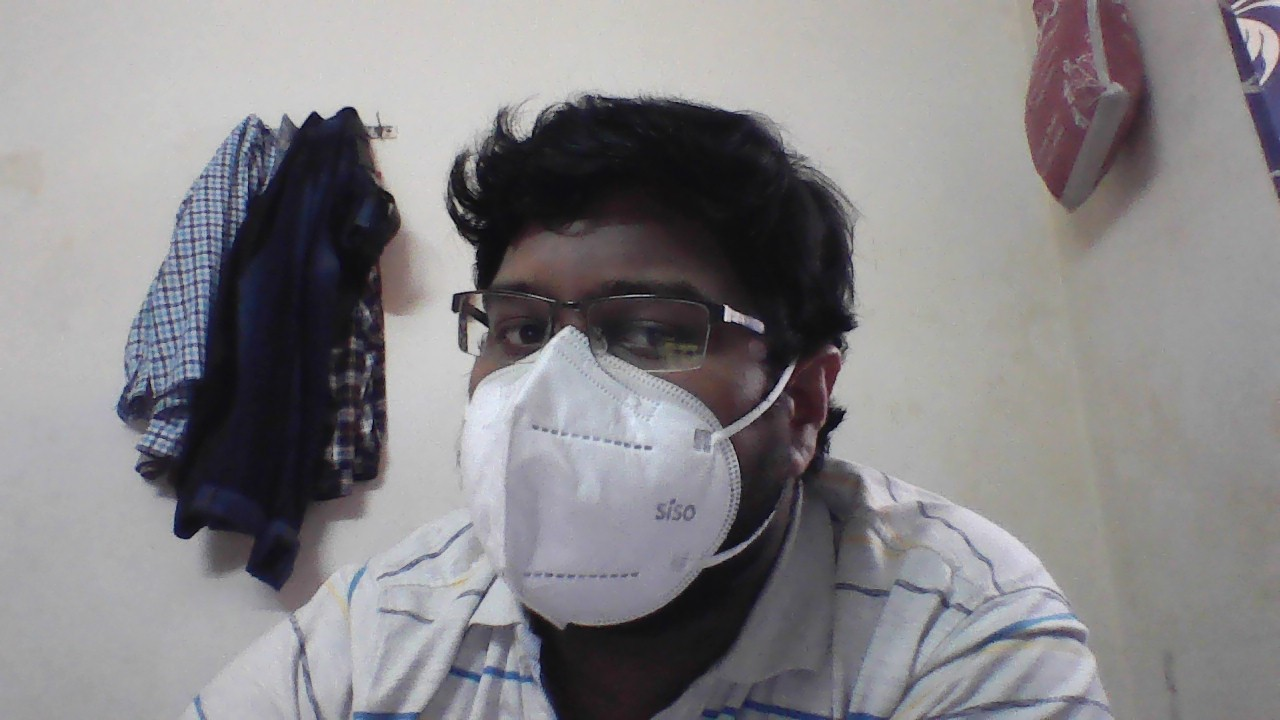Mask: (394, 362, 876, 601)
